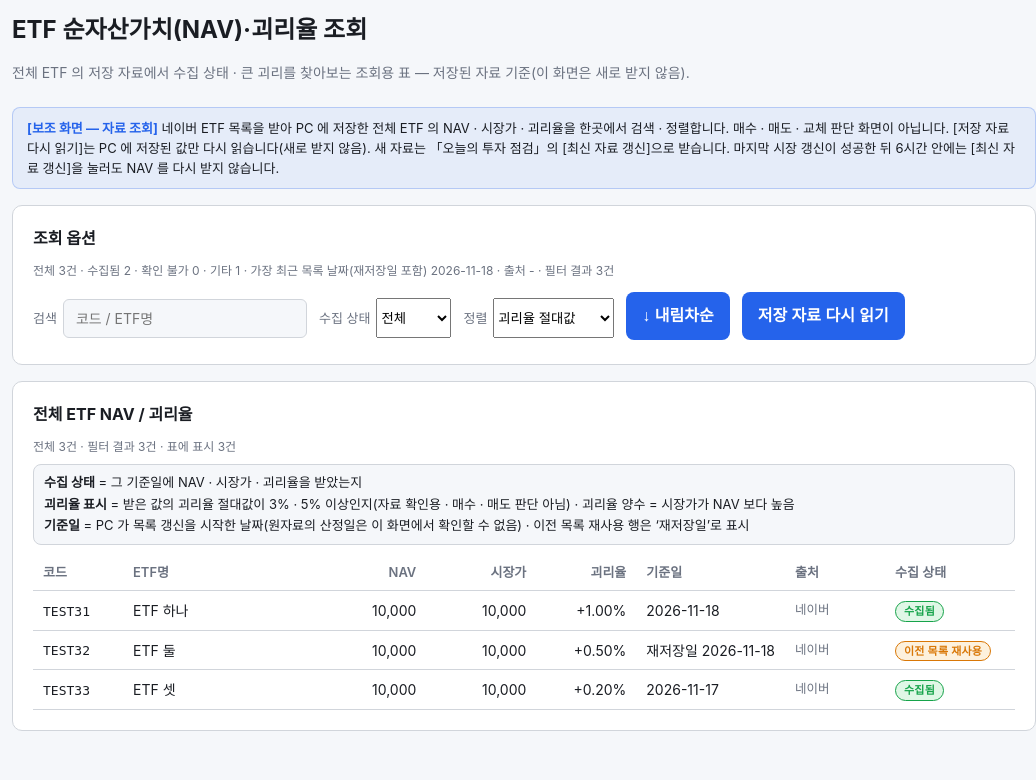
it: 「ETF NAV·괴리율 조회」 화면 › 요약 날짜 라벨(I-9) › 최댓값 날짜에 이전 목록 재사용 행 → '가장 최근 목록 날짜(재저장일 포함)' · 고르기 · 검색으로 그 행이 숨어도 그대로
The width and height of the screenshot is (1036, 780).
Expected: the table is shown, left=33, top=555, right=1015, bottom=710
Expected: the element with test id "ds-summary" does not show "가장 최근 기준일", left=33, top=263, right=614, bottom=278
Select "수집됨" in the dropdown labelled "수집 상태" at [414, 318], box left=376, top=298, right=451, bottom=338
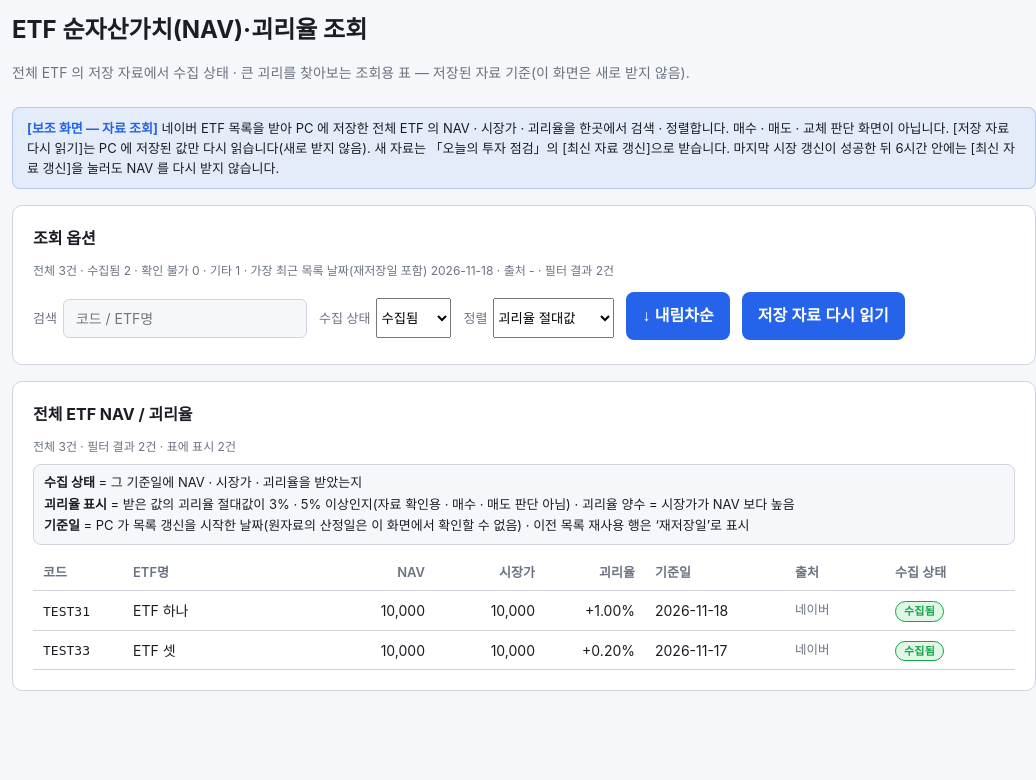
Result: the text "TEST32" is gone
Select "전체" in the dropdown labelled "수집 상태" at [414, 318], box left=376, top=298, right=451, bottom=338
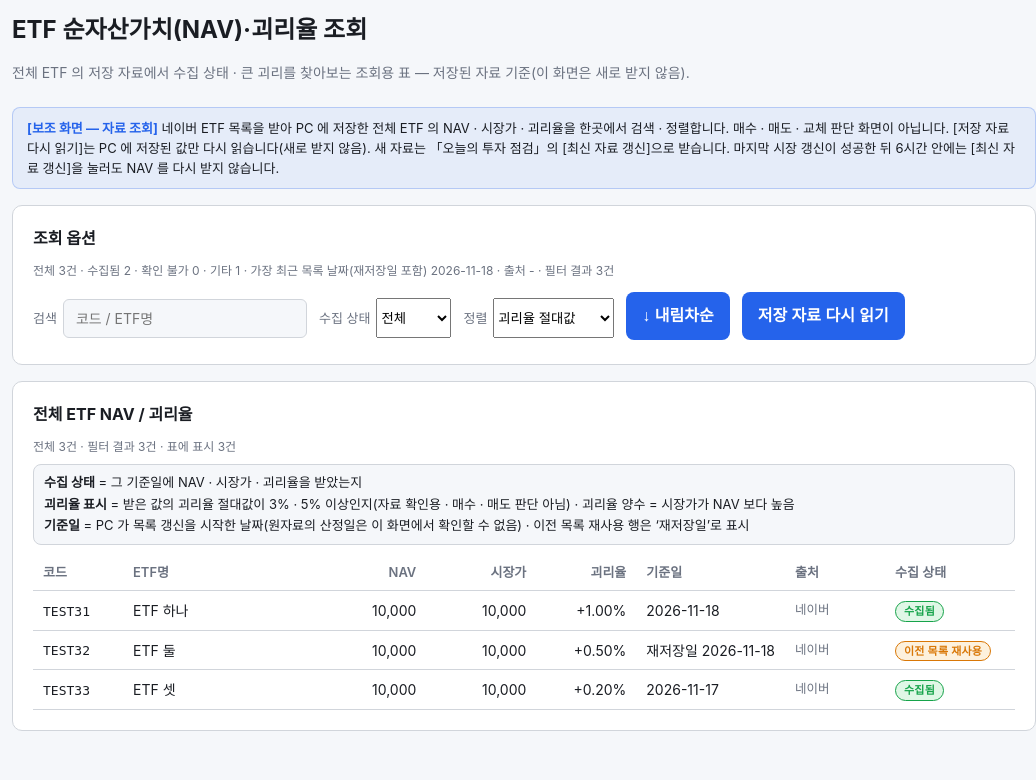
Type "TEST31" into the field with placeholder "코드 / ETF명".
click(185, 318); type("TEST31")  # box left=63, top=299, right=307, bottom=338
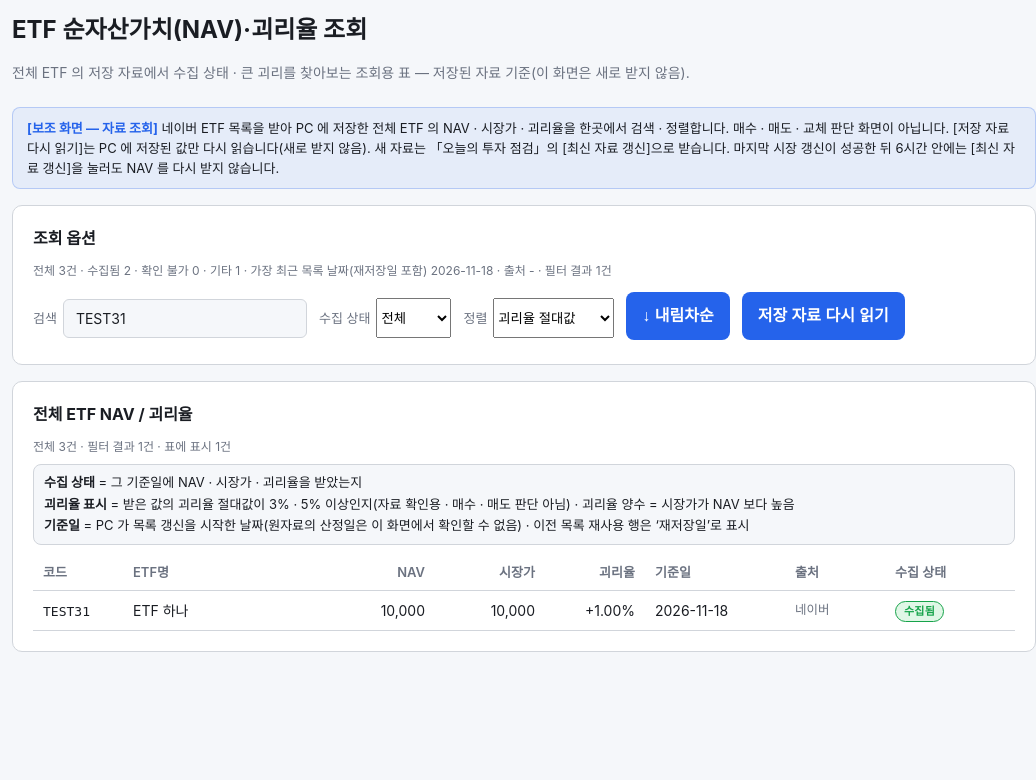
Result: the text "TEST32" is gone
